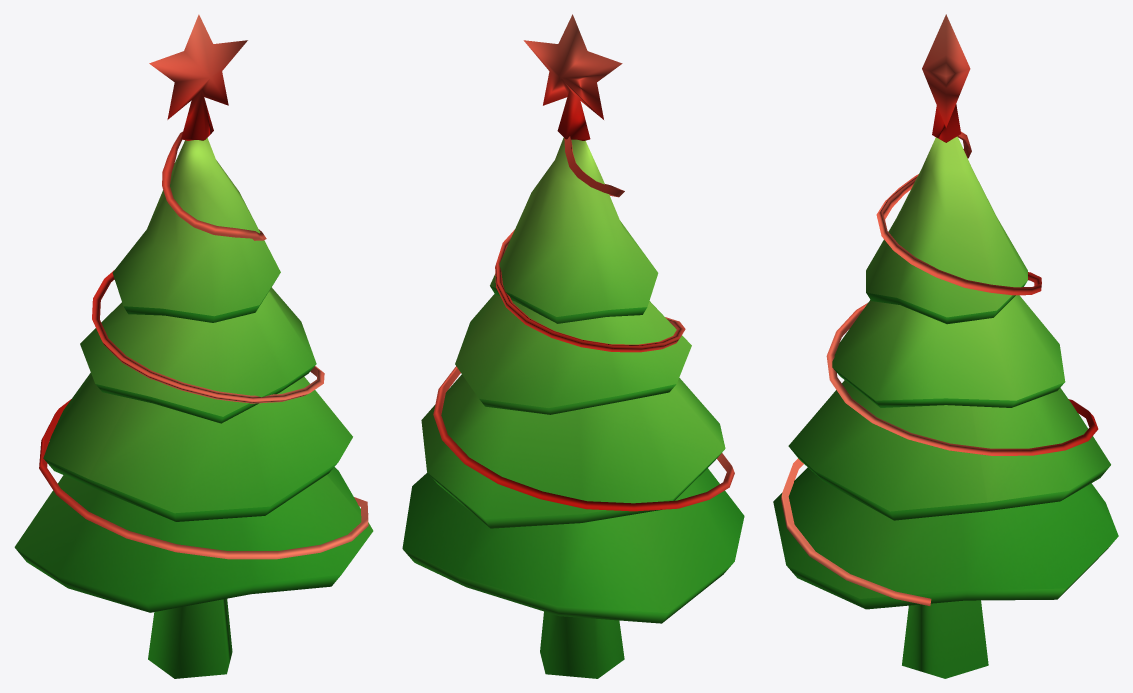
Rendered from VEG0210048.fbx.
3 views of the same model, side by side, from view 1: azimuth 30°, elevation 25°; view 2: azimuth 150°, elevation 25°; view 3: azimuth 270°, elevation 25° (orthographic).
Visible parts, largest first — view 1: smVEG0210048; view 2: smVEG0210048; view 3: smVEG0210048.
Part boxes in pixels (box(x1,y1,x2,y2)): smVEG0210048: box(14, 14, 373, 678); smVEG0210048: box(402, 14, 744, 678); smVEG0210048: box(773, 14, 1118, 678).
Size of the model in its own units: 208 by 425 by 205.
1 material, 1 textured.
